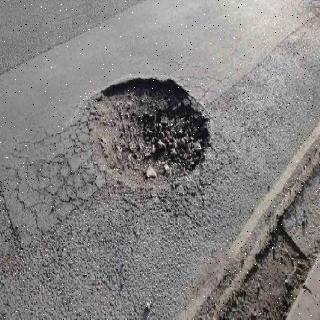pothole: (87, 78, 212, 186)
